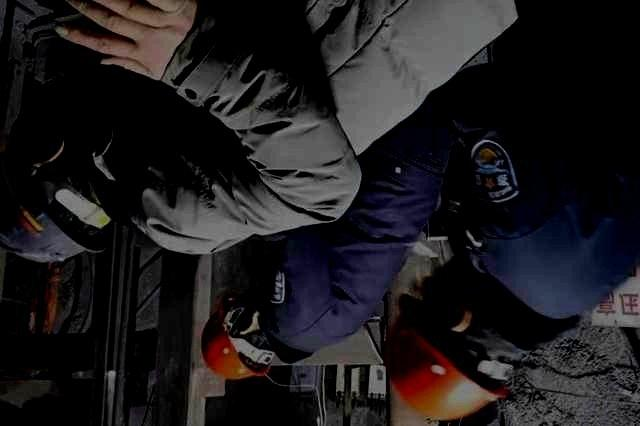helmet: (383, 255, 532, 420), (1, 135, 112, 264), (200, 289, 277, 381)
